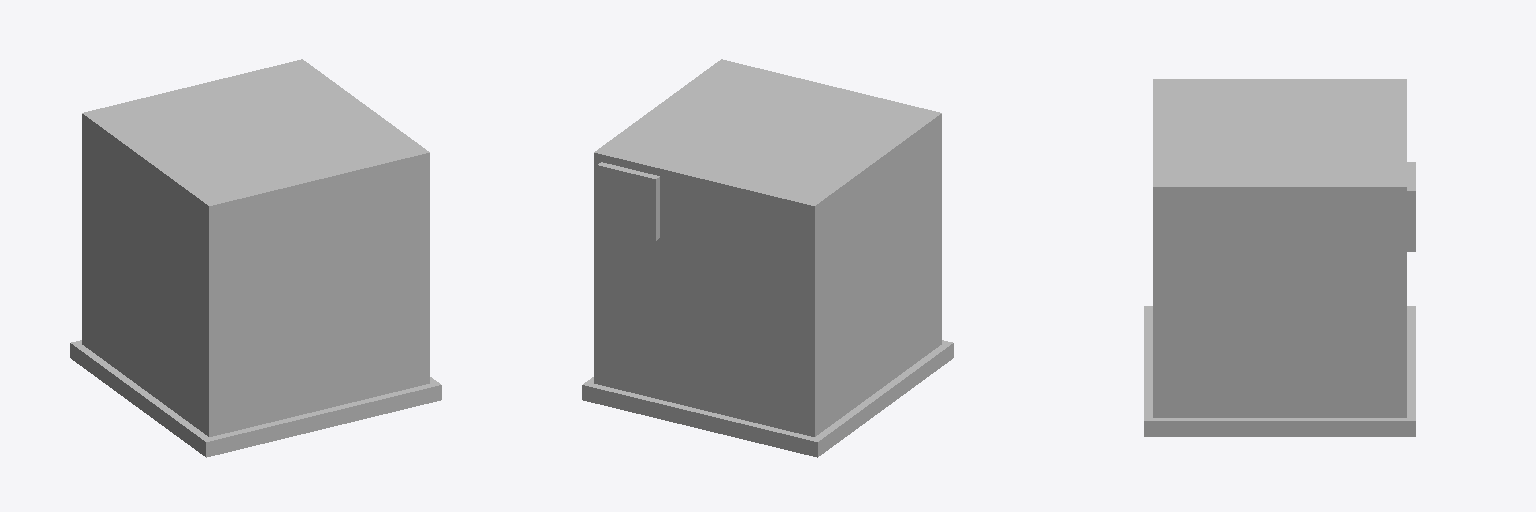
The model's file is quantumAssembler.obj.
The picture shows the model from 3 angles: view 1: azimuth 30°, elevation 25°; view 2: azimuth 150°, elevation 25°; view 3: azimuth 270°, elevation 25°; orthographic projection.
Parts seen in each view (by area): view 1: Safety_Glass_Back, Safety_Glass_Left, Safety_Glass_Top, Plinth_Base_Plate; view 2: Safety_Glass_Front, Safety_Glass_Left, Safety_Glass_Top, Plinth_Base_Plate, Control_Pad; view 3: Safety_Glass_Right, Safety_Glass_Top, Plinth_Base_Plate, Control_Pad.
Boxes of the visible parts, box(x1,y1,x2,y2) form: Safety_Glass_Back: box(209, 153, 429, 436); Safety_Glass_Left: box(82, 114, 208, 436); Safety_Glass_Top: box(82, 59, 429, 205); Plinth_Base_Plate: box(70, 340, 441, 457); Safety_Glass_Front: box(594, 153, 814, 436); Safety_Glass_Left: box(815, 114, 941, 436); Safety_Glass_Top: box(594, 59, 941, 205); Plinth_Base_Plate: box(582, 340, 953, 457); Control_Pad: box(597, 162, 659, 240); Safety_Glass_Right: box(1153, 187, 1406, 417); Safety_Glass_Top: box(1153, 79, 1406, 186); Plinth_Base_Plate: box(1144, 306, 1415, 436); Control_Pad: box(1407, 162, 1415, 251).
Bounding box in the file's own units: 1 × 1 × 1.